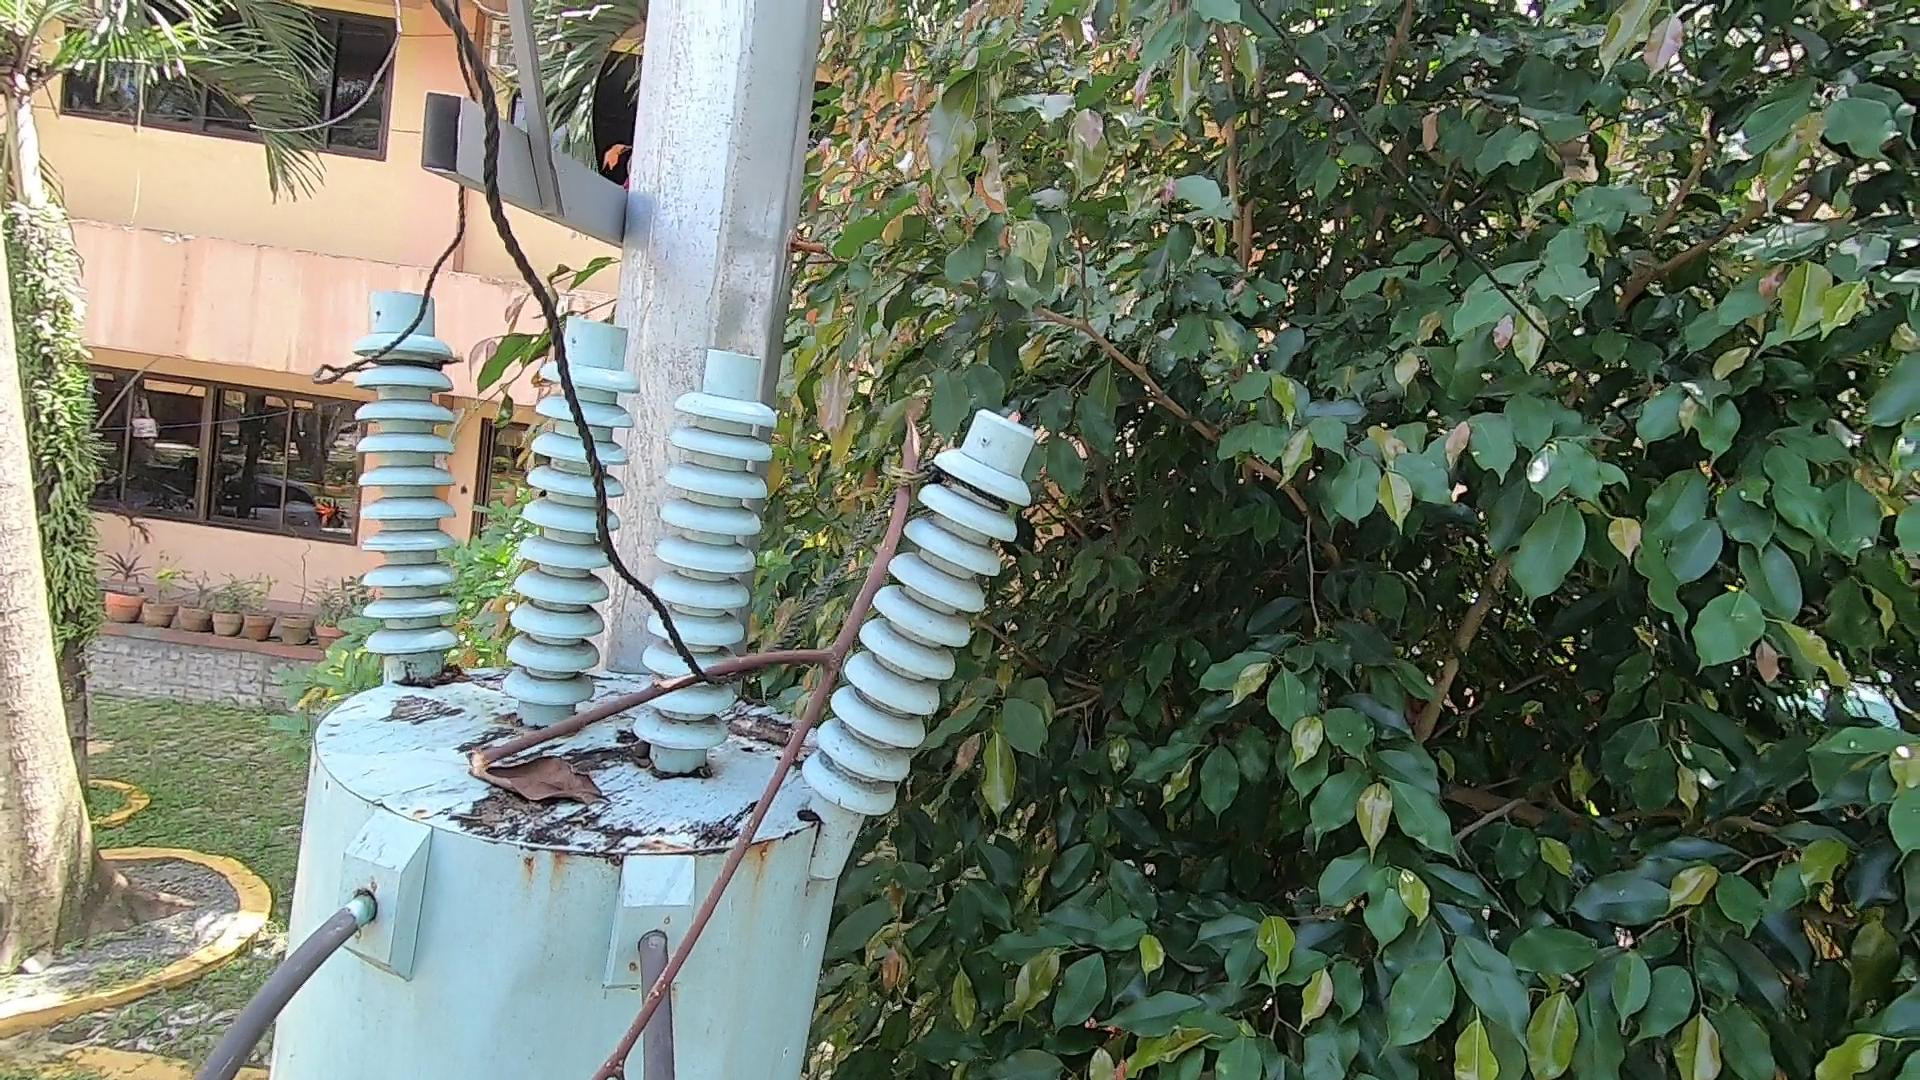leaf: (447, 742, 620, 832)
tree branch: (394, 375, 957, 1080)
